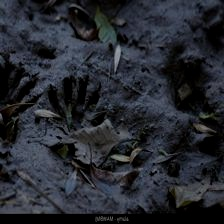raccoon: (46, 70, 111, 140)
